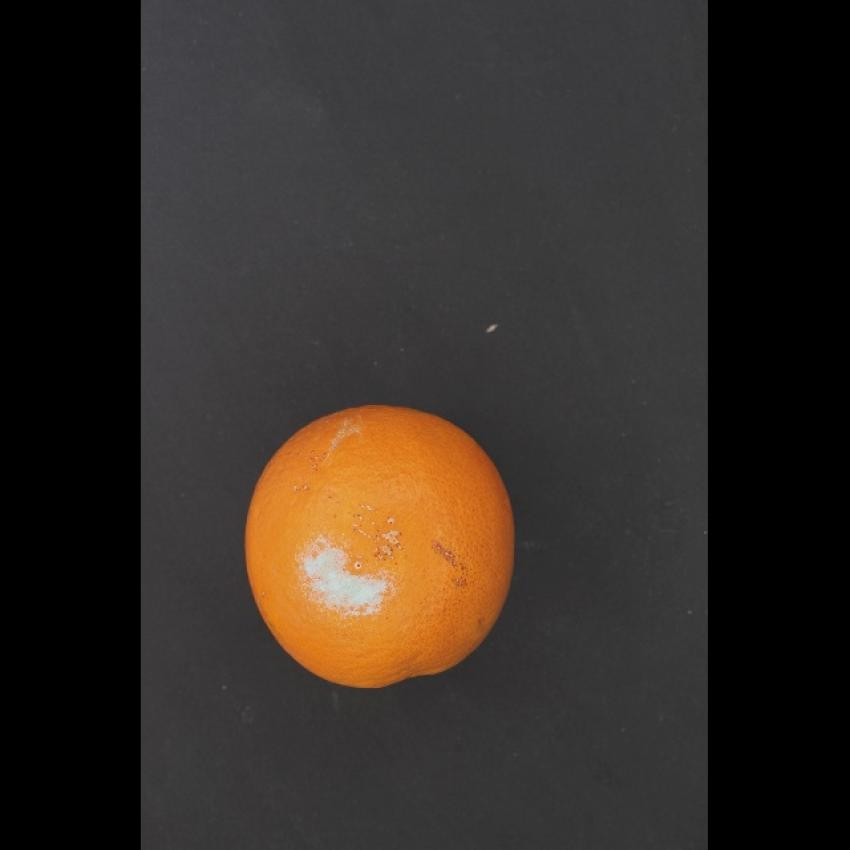Mal estado: (240, 383, 522, 702)
